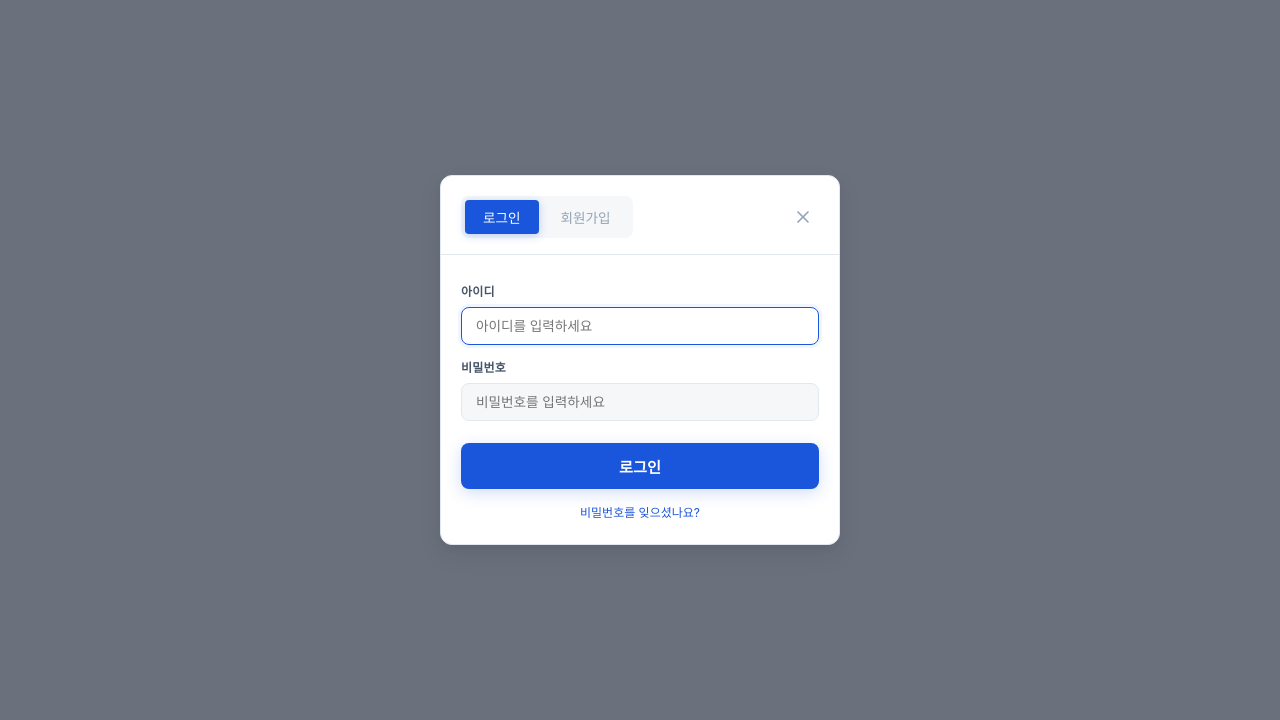
Test: AuthModal › shows an error instead of hanging when the login response is not JSON
This screenshot has width=1280, height=720.
In the field with placeholder "아이디를 입력하세요": (640, 326) 461,307 -> 819,345, type "iru"
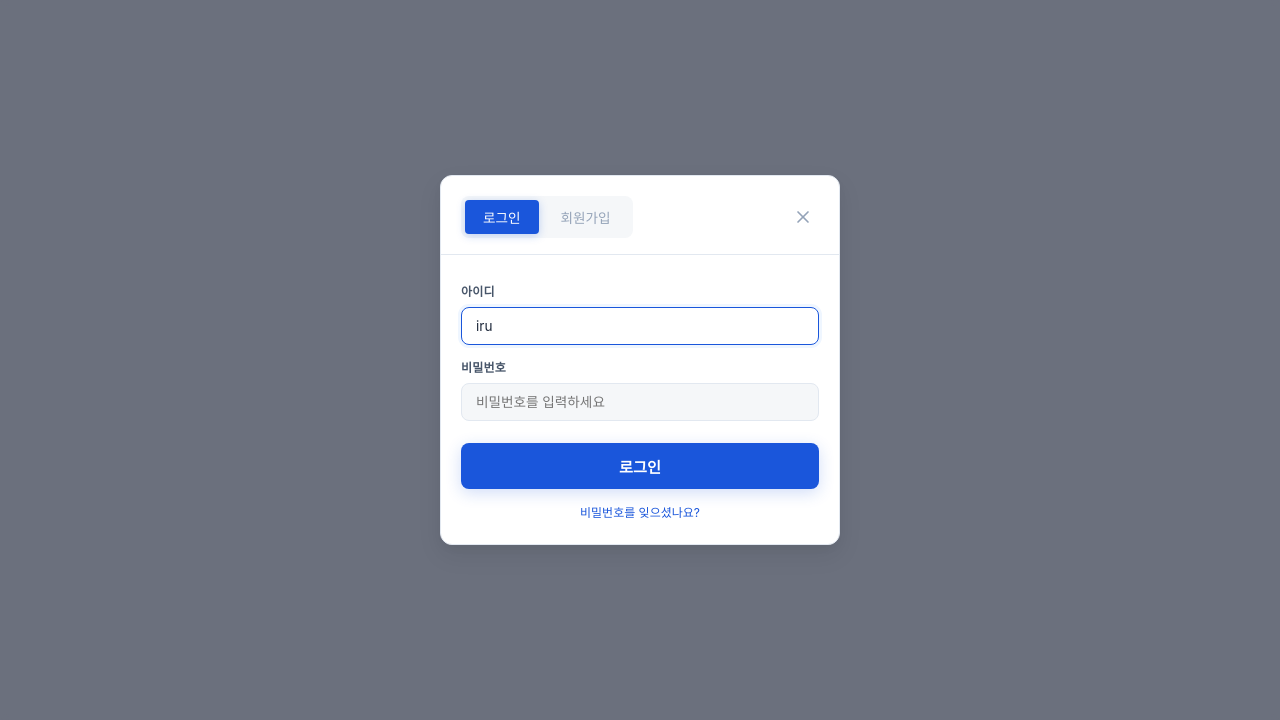
In the password field with placeholder "비밀번호를 입력하세요": (640, 402) 461,383 -> 819,421, type "abc"
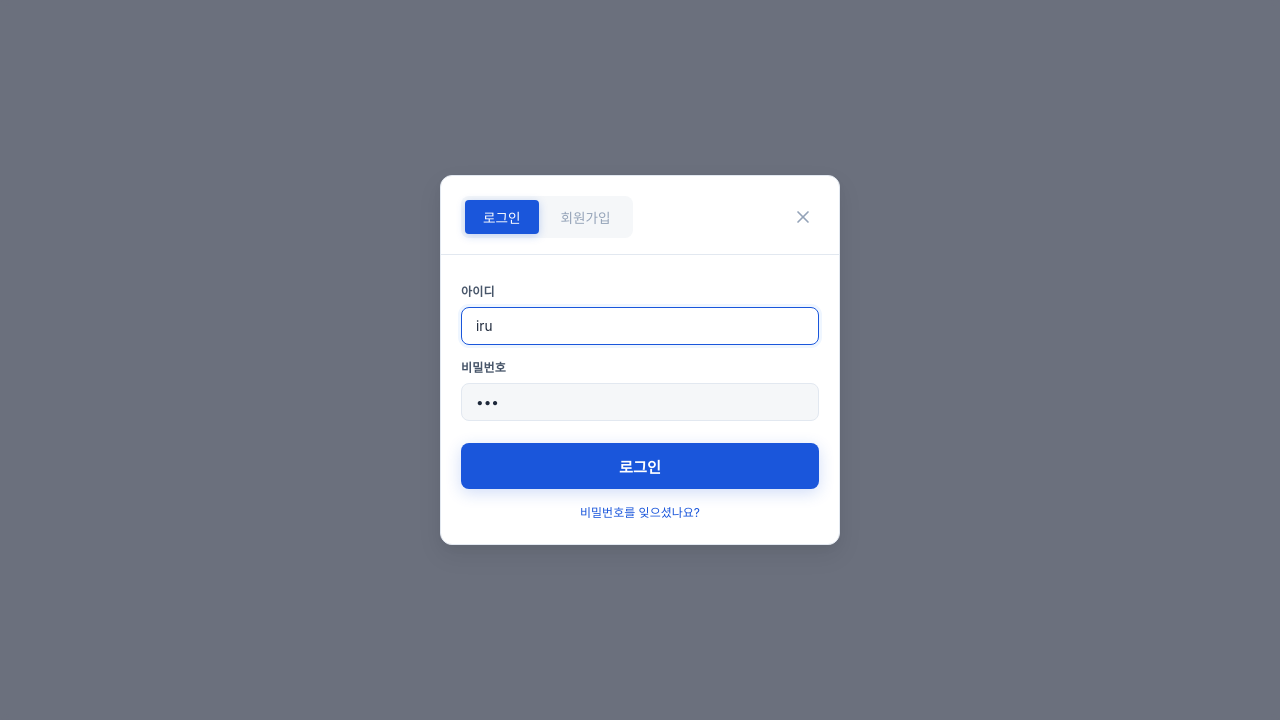
Click the button with id "login-submit": (640, 466) 461,443 -> 819,489
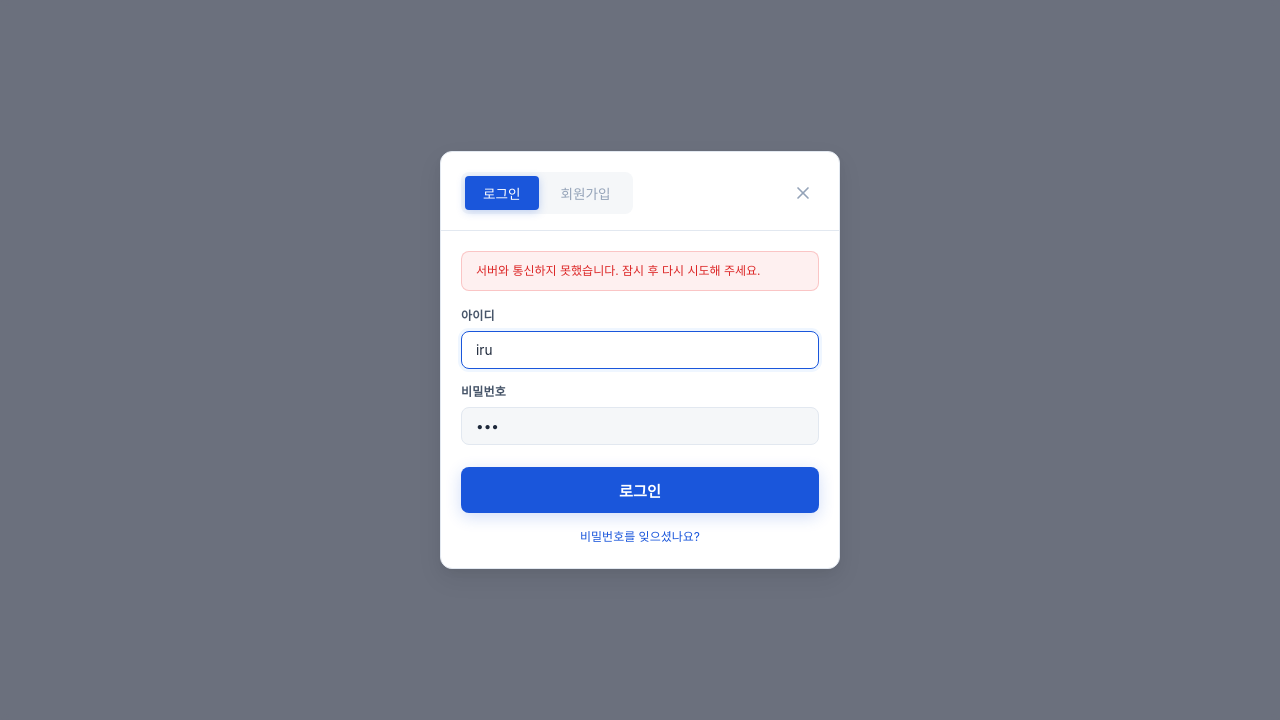
Check: the button with id "login-submit" reads "로그인", box 461,467 -> 819,513
Check: the text "서버와 통신하지 못했습니다. 잠시 후 다시 시도해 주세요." is shown, box 461,251 -> 819,291
